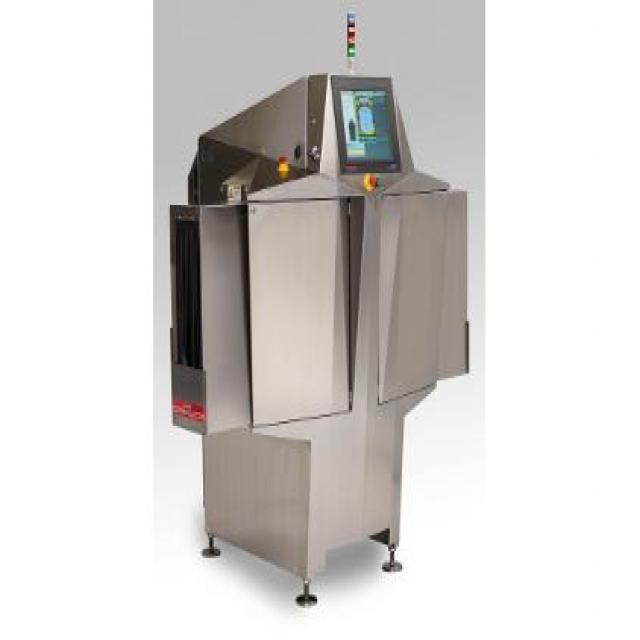metel: (166, 43, 474, 615)
